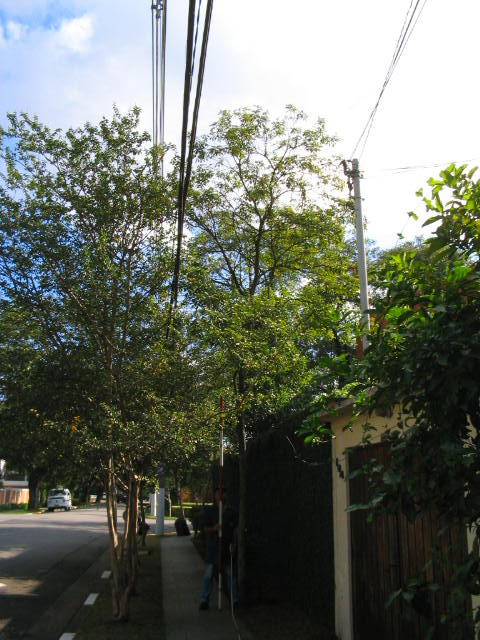crown: (3, 104, 360, 491)
stem: (103, 493, 145, 622)
stick: (213, 394, 230, 611)
tree: (1, 101, 362, 625)
